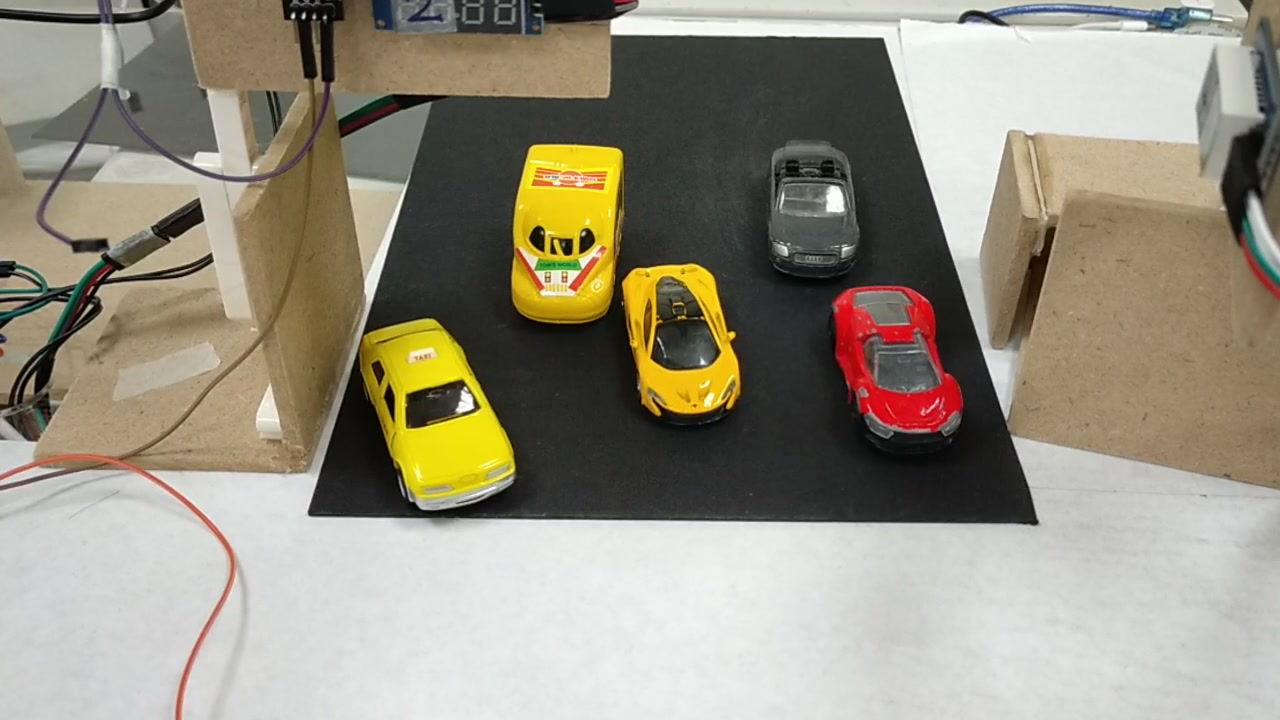car: (359, 327, 513, 512), (827, 284, 961, 451), (620, 264, 742, 425), (766, 140, 860, 279)
